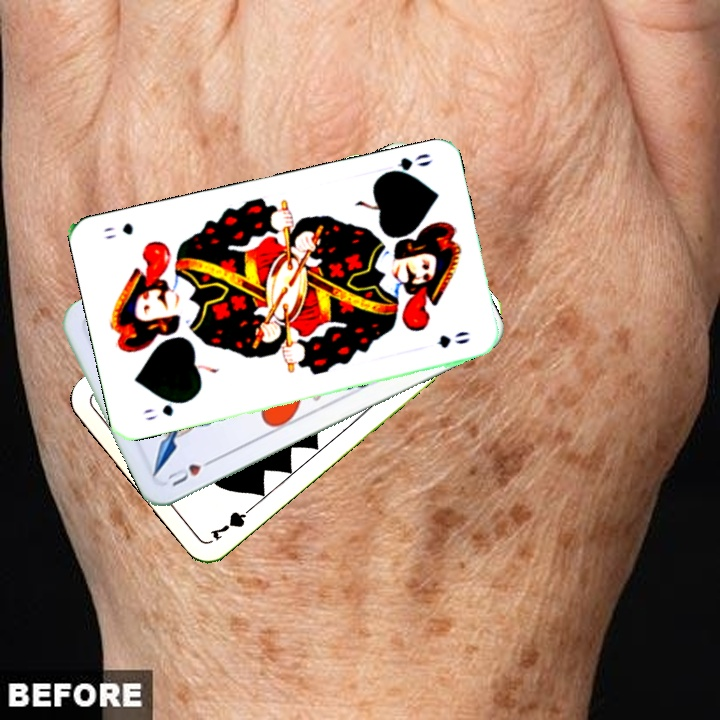G7: (205, 500, 258, 543)
GO: (377, 149, 435, 179), (139, 396, 191, 423)
HU: (163, 454, 219, 489)
